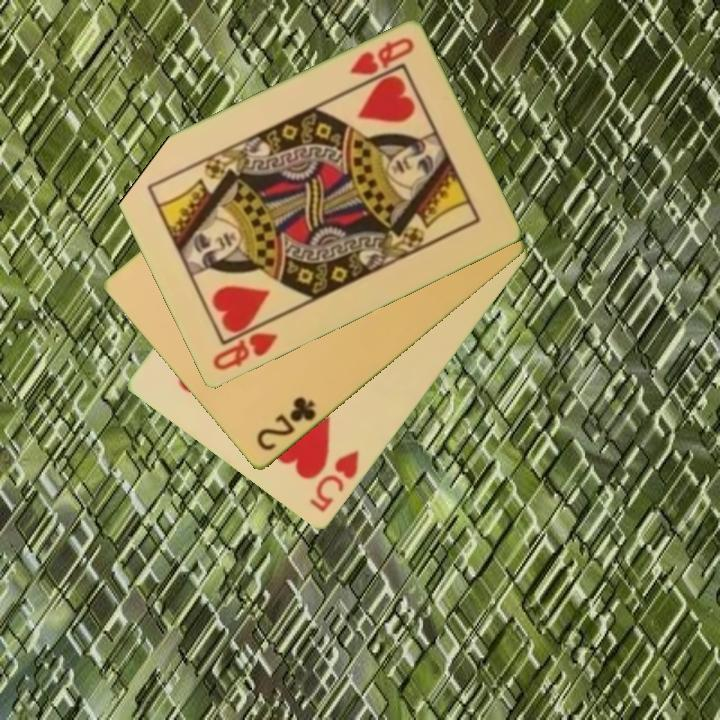2c: (252, 393, 320, 455)
5h: (306, 447, 363, 517)
Qh: (209, 317, 281, 374), (346, 34, 417, 79)
